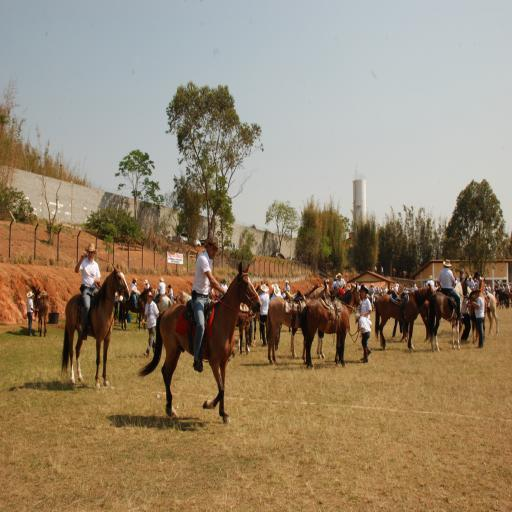Horse: (136, 258, 262, 424), (58, 260, 131, 388), (266, 280, 330, 365), (302, 281, 362, 369), (373, 281, 436, 347), (428, 275, 470, 350), (235, 279, 257, 357), (466, 275, 488, 346), (472, 287, 498, 345), (118, 288, 150, 331), (32, 286, 51, 338), (152, 287, 173, 314)
